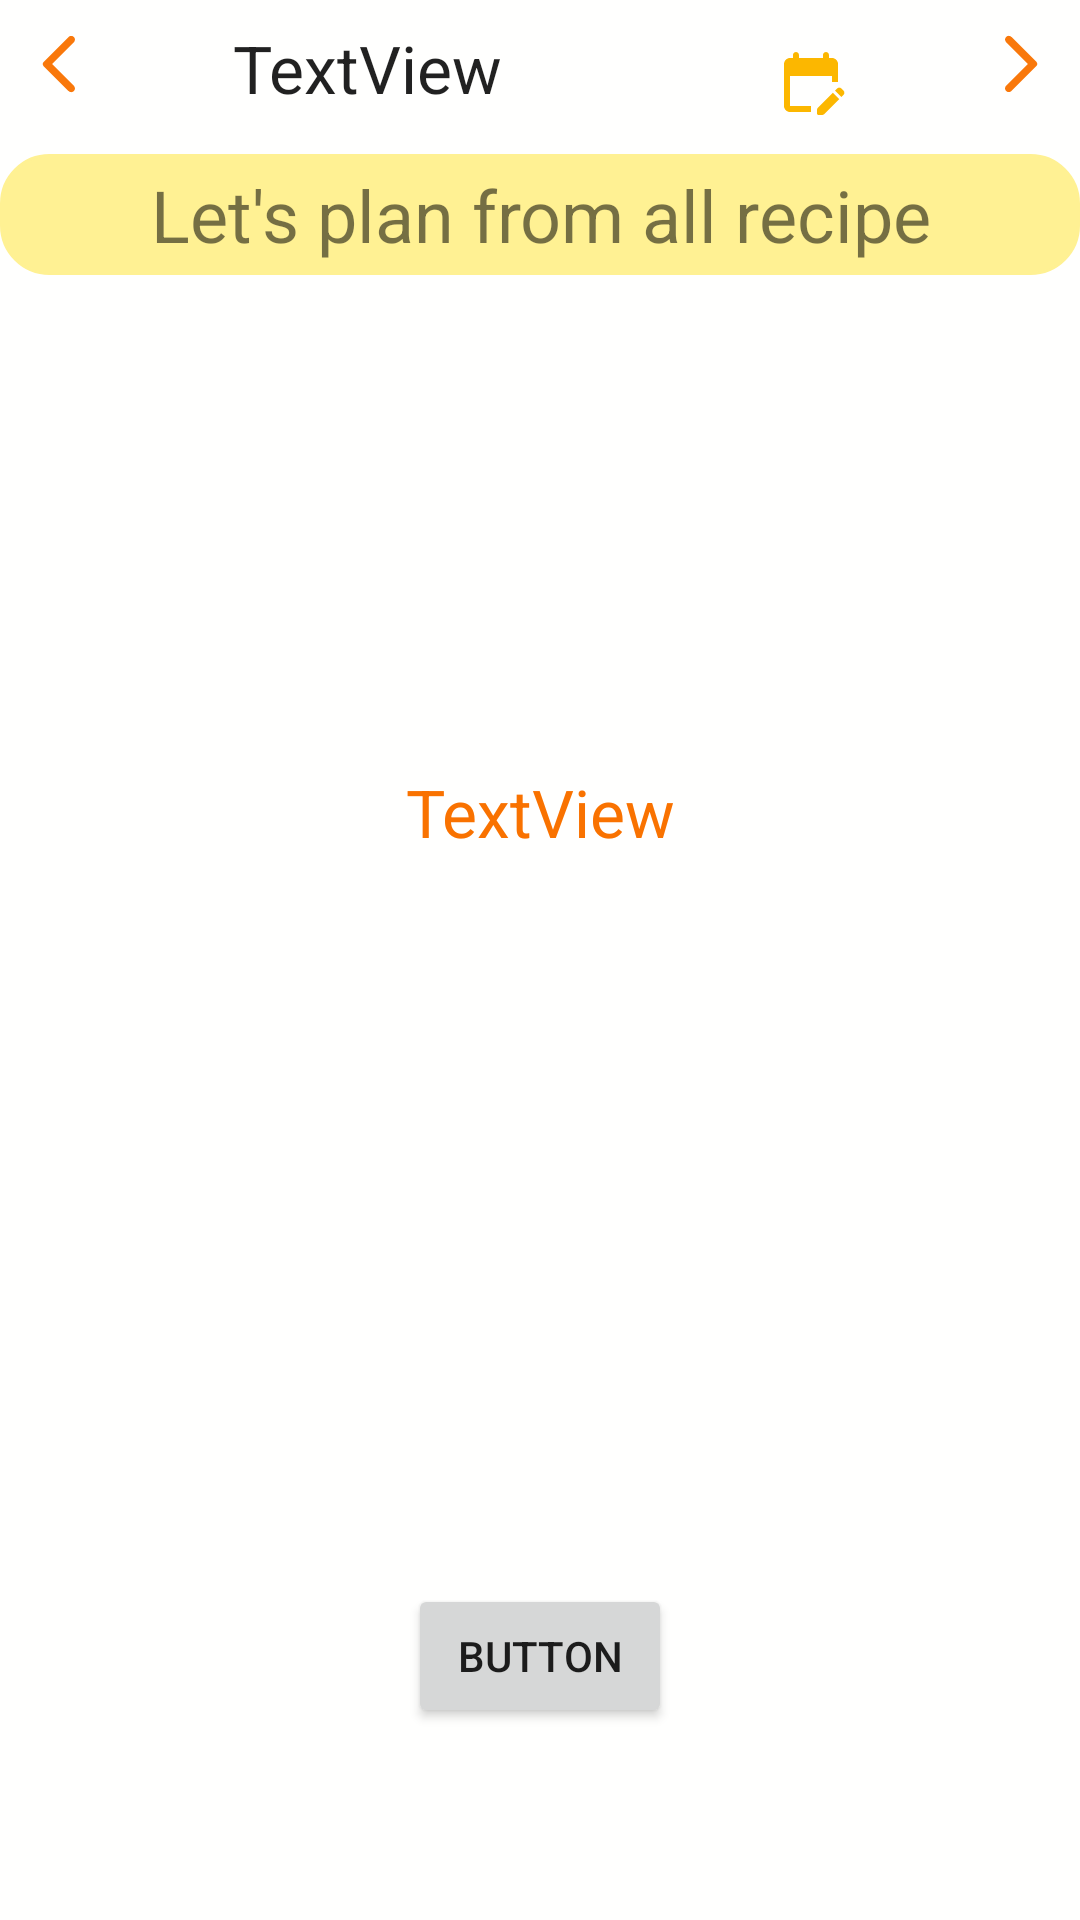

Locate icon controls on the screen. Image size 1080 × 1920, boxes as [left=x1, top=y1, right=x2, bottom=y2].
back: [left=42, top=36, right=75, bottom=93]
edit calendar: [left=784, top=52, right=845, bottom=115]
forward: [left=1005, top=35, right=1038, bottom=92]
